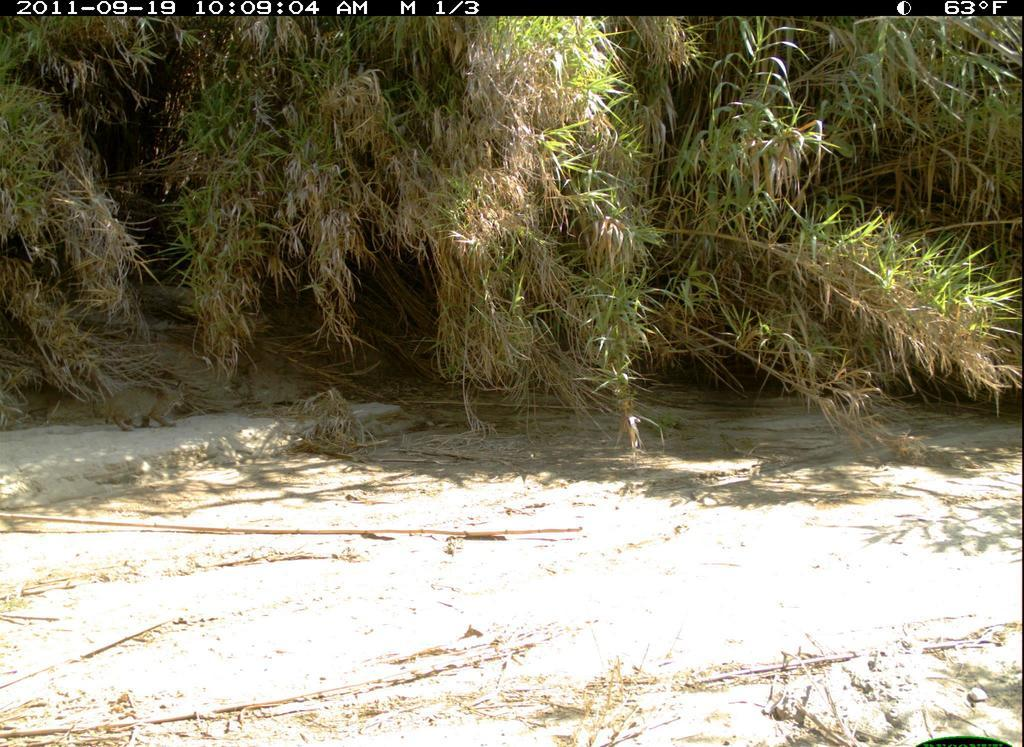bobcat: (91, 377, 198, 437)
